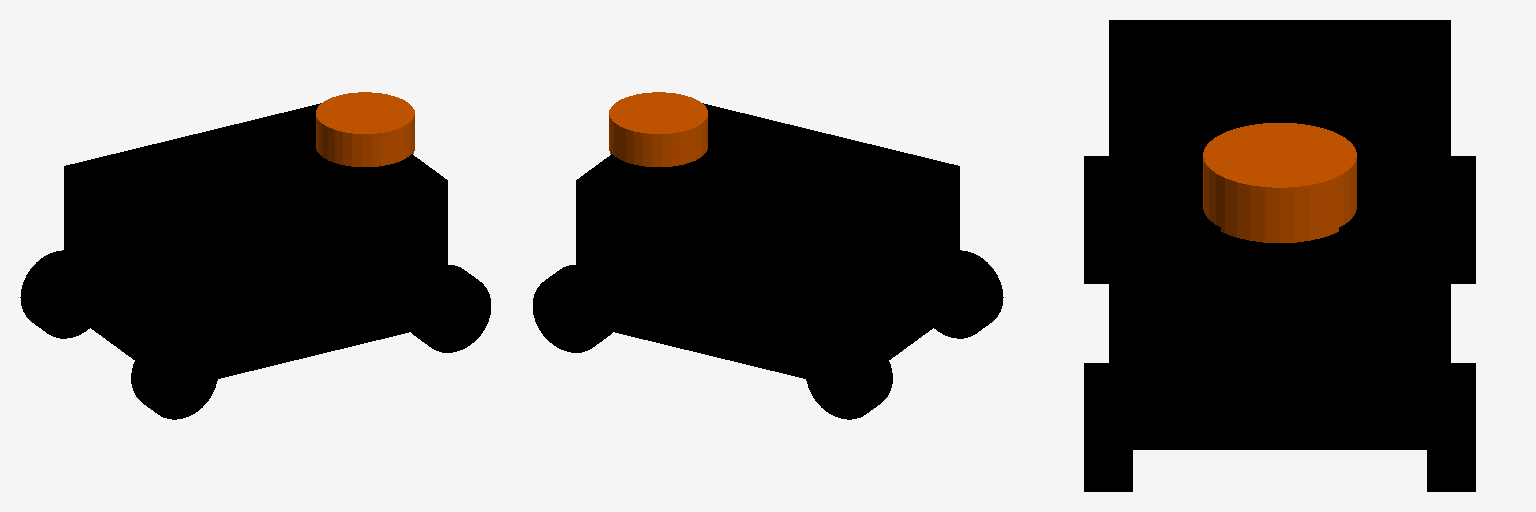
URDF robot description (navgroup):
<?xml version="1.0" ?>
<!-- =================================================================================== -->
<!-- |    This document was autogenerated by xacro from kilotron.urdf.xacro            | -->
<!-- |    EDITING THIS FILE BY HAND IS NOT RECOMMENDED                                 | -->
<!-- =================================================================================== -->
<robot name="navgroup" xmlns:body="http://playerstage.sourceforge.net/gazebo/xmlschema/#body" xmlns:controller="http://playerstage.sourceforge.net/gazebo/xmlschema/#controller" xmlns:gazebo="http://playerstage.sourceforge.net/gazebo/xmlschema/#gz" xmlns:geom="http://playerstage.sourceforge.net/gazebo/xmlschema/#geom" xmlns:interface="http://playerstage.sourceforge.net/gazebo/xmlschema/#interface" xmlns:joint="http://playerstage.sourceforge.net/gazebo/xmlschema/#joint" xmlns:model="http://playerstage.sourceforge.net/gazebo/xmlschema/#model" xmlns:physics="http://playerstage.sourceforge.net/gazebo/xmlschema/#physics" xmlns:rendering="http://playerstage.sourceforge.net/gazebo/xmlschema/#rendering" xmlns:sensor="http://playerstage.sourceforge.net/gazebo/xmlschema/#sensor" xmlns:xacro="http://www.ros.org/wiki/xacro">
  <!-- Physical Constant Macros -->
  <!-- Dimension Macros -->
  <!-- 10" -->
  <!-- 5" -->
  <!-- 1" -->
  <!-- Physical Material Macros -->
  <material name="Grey">
    <color rgba="0 0 0 0.5"/>
  </material>
  <material name="Blue">
    <color rgba="0 0 1.0 0.5"/>
  </material>
  <material name="Black">
    <color rgba="0 0 0 1.0"/>
  </material>
  <material name="Aqua">
    <color rgba="0 255 255 1.0"/>
  </material>
  <!-- Main body -->
  <link name="base_link">
    <inertial>
      <mass value="0.2"/>
      <origin xyz="0 0 0"/>
      <inertia ixx="0.2" ixy="0.0" ixz="0.0" iyy="0.2" iyz="0.0" izz="0.2"/>
    </inertial>
    <visual>
      <origin rpy="0 0 0" xyz="0 0 0"/>
      <geometry>
        <box size="0.254 0.1778 0.127"/>
      </geometry>
      <material name="Grey"/>
    </visual>
    <collision>
      <origin rpy="0 0 0" xyz="0 0 0"/>
      <geometry>
        <box size="0.254 0.1778 0.127"/>
      </geometry>
    </collision>
  </link>
  <gazebo reference="base_link">
    <material>Gazebo/Grey</material>
  </gazebo>
  <!-- the front left wheel -->
  <joint name="front_left_wheel_joint" type="revolute">
    <limit effort="100" lower="-0.76096" upper="0.76096" velocity="10"/>
    <axis xyz="0 0 1"/>
    <parent link="base_link"/>
    <child link="front_left_wheel_link"/>
    <origin rpy="0 0 0" xyz="0.127 0.089 -0.0508"/>
    <!-- 5, 3.5, 2 -->
  </joint>
  <link name="front_left_wheel_link">
    <inertial>
      <mass value="0.01"/>
      <origin xyz="0 0 0"/>
      <inertia ixx="0.01" ixy="0.0" ixz="0.0" iyy="0.01" iyz="0.0" izz="0.01"/>
    </inertial>
    <visual>
      <origin rpy="1.57079632679 0 0" xyz="0 0 0"/>
      <geometry>
        <cylinder length="0.0254" radius="0.0333"/>
      </geometry>
      <material name="Black"/>
    </visual>
    <collision>
      <origin rpy="1.57079632679 0 0" xyz="0 0 0"/>
      <geometry>
        <cylinder length="0.0254" radius="0.0333"/>
      </geometry>
    </collision>
  </link>
  <gazebo reference="front_left_wheel_link">
    <material>Gazebo/Black</material>
  </gazebo>
  <!-- the front right wheel -->
  <joint name="front_right_wheel_joint" type="revolute">
    <limit effort="100" lower="-0.76096" upper="0.76096" velocity="10"/>
    <axis xyz="0 0 1"/>
    <parent link="base_link"/>
    <child link="front_right_wheel_link"/>
    <origin rpy="0 0 0" xyz="0.127 -0.089 -0.0508"/>
  </joint>
  <link name="front_right_wheel_link">
    <inertial>
      <mass value="0.01"/>
      <origin xyz="0 0 0"/>
      <inertia ixx="0.01" ixy="0.0" ixz="0.0" iyy="0.01" iyz="0.0" izz="0.01"/>
    </inertial>
    <visual>
      <origin rpy="1.57079632679 0 0" xyz="0 0 0"/>
      <geometry>
        <cylinder length="0.0254" radius="0.0333"/>
      </geometry>
      <material name="Black"/>
    </visual>
    <collision>
      <origin rpy="1.57079632679 0 0" xyz="0 0 0"/>
      <geometry>
        <cylinder length="0.0254" radius="0.0333"/>
      </geometry>
    </collision>
  </link>
  <gazebo reference="front_right_wheel_link">
    <material>Gazebo/Black</material>
  </gazebo>
  <!-- the back left wheel -->
  <joint name="back_left_wheel_joint" type="continuous">
    <axis xyz="0 1 0"/>
    <parent link="base_link"/>
    <child link="back_left_wheel_link"/>
    <origin rpy="0 0 0" xyz="-0.127 0.089 -0.0508"/>
    <!-- 5, 3.5, 2 -->
  </joint>
  <link name="back_left_wheel_link">
    <inertial>
      <mass value="0.01"/>
      <origin xyz="0 0 0"/>
      <inertia ixx="0.01" ixy="0.0" ixz="0.0" iyy="0.01" iyz="0.0" izz="0.01"/>
    </inertial>
    <visual>
      <origin rpy="1.57079632679 0 0" xyz="0 0 0"/>
      <geometry>
        <cylinder length="0.0254" radius="0.0333"/>
      </geometry>
      <material name="Black"/>
    </visual>
    <collision>
      <origin rpy="1.57079632679 0 0" xyz="0 0 0"/>
      <geometry>
        <cylinder length="0.0254" radius="0.0333"/>
      </geometry>
    </collision>
  </link>
  <gazebo reference="back_left_wheel_link">
    <material>Gazebo/Black</material>
  </gazebo>
  <!-- the back right wheel -->
  <joint name="back_right_wheel_joint" type="continuous">
    <axis xyz="0 1 0"/>
    <parent link="base_link"/>
    <child link="back_right_wheel_link"/>
    <origin rpy="0 0 0" xyz="-0.127 -0.089 -0.0508"/>
  </joint>
  <link name="back_right_wheel_link">
    <inertial>
      <mass value="0.01"/>
      <origin xyz="0 0 0"/>
      <inertia ixx="0.01" ixy="0.0" ixz="0.0" iyy="0.01" iyz="0.0" izz="0.01"/>
    </inertial>
    <visual>
      <origin rpy="1.57079632679 0 0" xyz="0 0 0"/>
      <geometry>
        <cylinder length="0.0254" radius="0.0333"/>
      </geometry>
      <material name="Black"/>
    </visual>
    <collision>
      <origin rpy="1.57079632679 0 0" xyz="0 0 0"/>
      <geometry>
        <cylinder length="0.0254" radius="0.0333"/>
      </geometry>
    </collision>
  </link>
  <gazebo reference="back_right_wheel_link">
    <material>Gazebo/Black</material>
  </gazebo>
  <!-- Ackermann plugin -->
  <gazebo>
    <controller:ackermann_plugin name="ackermann_controller" plugin="libackermann_plugin.so">
      <alwaysOn>true</alwaysOn>
      <update>100</update>
      <updateRate>100.0</updateRate>
      <leftJoint>back_left_wheel_joint</leftJoint>
      <rightJoint>back_right_wheel_joint</rightJoint>
      <steerJoint>steer_joint</steerJoint>
      <wheelSeparationWidth>0.16</wheelSeparationWidth>
      <wheelSeparationLength>0.32</wheelSeparationLength>
      <wheelDiameter>0.041</wheelDiameter>
      <driveTorque>5</driveTorque>
      <steerTorque>5</steerTorque>
      <interface:position name="position_iface_0"/>
      <robotNamespace>/</robotNamespace>
      <topicName>pilot/drive</topicName>
    </controller:ackermann_plugin>
    <canonicalBody>base_footprint</canonicalBody>
    <!-- this publishes empty joint_states due to no transmission, but
    triggering robot_state_publisher to publish tf between fixed joints in erratic,
    (e.g. base_laser_link for the base_scan frame) -->
    <controller:gazebo_ros_controller_manager name="gazebo_ros_controller_manager" plugin="libgazebo_ros_controller_manager.so">
      <alwaysOn>true</alwaysOn>
      <updateRate>100.0</updateRate>
      <interface:audio name="gazebo_ros_controller_manager_dummy_iface"/>
    </controller:gazebo_ros_controller_manager>
  </gazebo>
  <!-- x: 0.1016   # 4" forward from center of car
y: 0        # center of car
z: 0.1143   # 4.5" up from wheel axis -->
  <joint name="laser_base_mount_joint" type="fixed">
    <origin rpy="0 0 0" xyz="0.1016 0 0.05715"/>
    <parent link="base_link"/>
    <child link="laser_link"/>
  </joint>
  <link name="laser_link" type="fixed">
    <inertial>
      <mass value="0.1"/>
      <origin xyz="0 0 0.0"/>
      <inertia ixx="0.1" ixy="0" ixz="0" iyy="0.1" iyz="0" izz="0.1"/>
    </inertial>
    <visual>
      <origin rpy="0 0 0" xyz="0 0 0.02"/>
      <geometry>
        <cylinder length="0.03175" radius="0.04"/>
      </geometry>
    </visual>
    <collision>
      <origin rpy="0 0 0" xyz="0 0 0.025"/>
      <geometry>
        <box size="0.05 0.05 0.05"/>
      </geometry>
    </collision>
  </link>
  <gazebo reference="laser_link">
    <sensor:ray name="laser">
      <rayCount>683</rayCount>
      <rangeCount>683</rangeCount>
      <laserCount>1</laserCount>
      <origin>0.0 0.0 0.0</origin>
      <displayRays>false</displayRays>
      <minAngle>-135</minAngle>
      <maxAngle> 135</maxAngle>
      <minRange>0.06</minRange>
      <maxRange>4.0</maxRange>
      <resRange>0.001</resRange>
      <updateRate>10.0</updateRate>
      <controller:gazebo_ros_laser name="gazebo_ros_base_scan_link_controller" plugin="libgazebo_ros_laser.so">
        <gaussianNoise>0.005</gaussianNoise>
        <alwaysOn>true</alwaysOn>
        <updateRate>10.0</updateRate>
        <topicName>scan</topicName>
        <frameName>laser_link</frameName>
        <interface:laser name="gazebo_ros_base_scan_link_iface"/>
      </controller:gazebo_ros_laser>
    </sensor:ray>
  </gazebo>
  <gazebo reference="laser_link">
    <material>Gazebo/Black</material>
  </gazebo>
</robot>

--- What the picture shows (computed from the rendered views, not written in the file) ---
The picture shows the robot from 3 angles, left to right: view 1: azimuth 30°, elevation 25°; view 2: azimuth 150°, elevation 25°; view 3: azimuth 270°, elevation 25°; orthographic projection.
Robot: navgroup — 6 links, 5 joints (2 revolute, 2 continuous, 1 fixed); root link base_link; default pose: all joints at 0.
Links seen in each view (by area): view 1: base_link, laser_link, back_right_wheel_link, front_right_wheel_link, back_left_wheel_link; view 2: base_link, laser_link, back_left_wheel_link, front_left_wheel_link, back_right_wheel_link; view 3: base_link, laser_link, front_left_wheel_link, front_right_wheel_link, back_left_wheel_link, back_right_wheel_link.
Link boxes in pixels (box(x1,y1,x2,y2)): base_link: box(64, 103, 447, 378); laser_link: box(316, 92, 414, 166); back_right_wheel_link: box(131, 332, 217, 419); front_right_wheel_link: box(411, 265, 490, 352); back_left_wheel_link: box(20, 250, 89, 338); base_link: box(576, 103, 959, 378); laser_link: box(609, 92, 707, 166); back_left_wheel_link: box(806, 332, 892, 419); front_left_wheel_link: box(533, 265, 612, 352); back_right_wheel_link: box(934, 250, 1003, 338); base_link: box(1109, 20, 1450, 449); laser_link: box(1203, 123, 1356, 242); front_left_wheel_link: box(1427, 363, 1475, 491); front_right_wheel_link: box(1084, 363, 1132, 491); back_left_wheel_link: box(1451, 156, 1475, 283); back_right_wheel_link: box(1084, 156, 1108, 283).
Bounding box of the posed robot: 0.3206 × 0.2034 × 0.1771 m (x, y, z).
Geometry: primitives only (box / cylinder / sphere), no mesh files.
